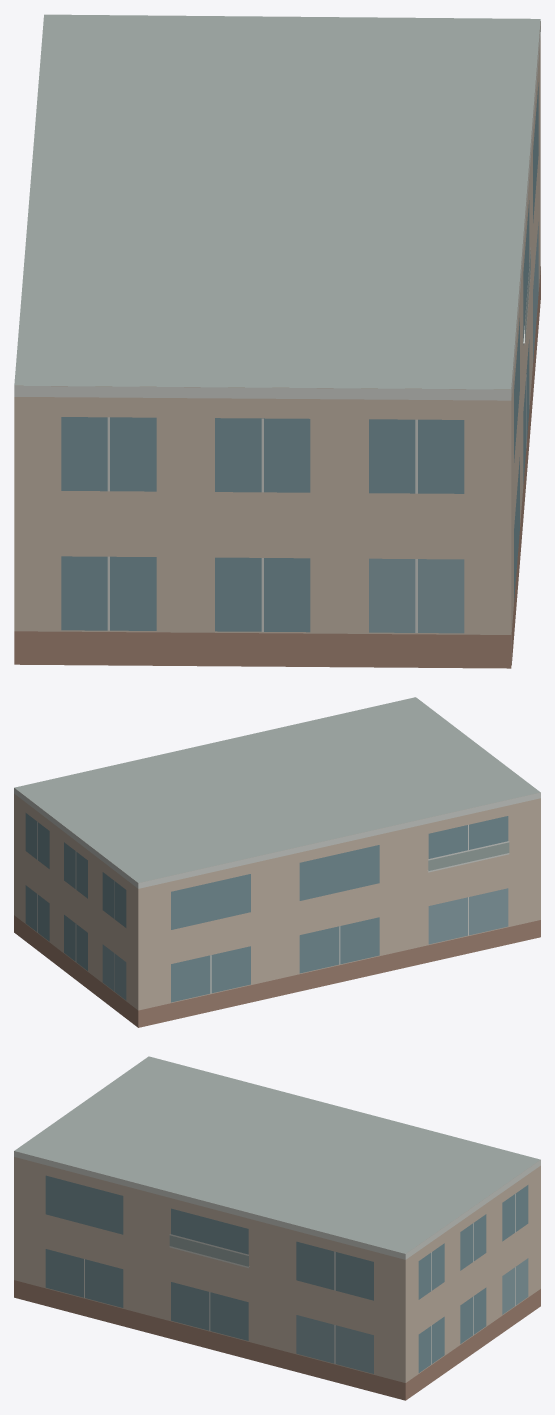
The model's file is survey-upis-32668926.glb.
The picture shows the model from 3 angles, top to bottom: view 1: azimuth 30°, elevation 25°; view 2: azimuth 150°, elevation 25°; view 3: azimuth 270°, elevation 25°; orthographic projection. The views are drawn at different scales.
Visible parts, largest first — view 1: survey-upis-32668926.tmp; view 2: survey-upis-32668926.tmp; view 3: survey-upis-32668926.tmp.
Boxes of the visible parts, left/top/right/bottom form: survey-upis-32668926.tmp: left=14, top=14, right=540, bottom=668; survey-upis-32668926.tmp: left=14, top=697, right=540, bottom=1027; survey-upis-32668926.tmp: left=14, top=1056, right=540, bottom=1400.
Size of the model in its own units: 17.65 by 6.1 by 19.87.
